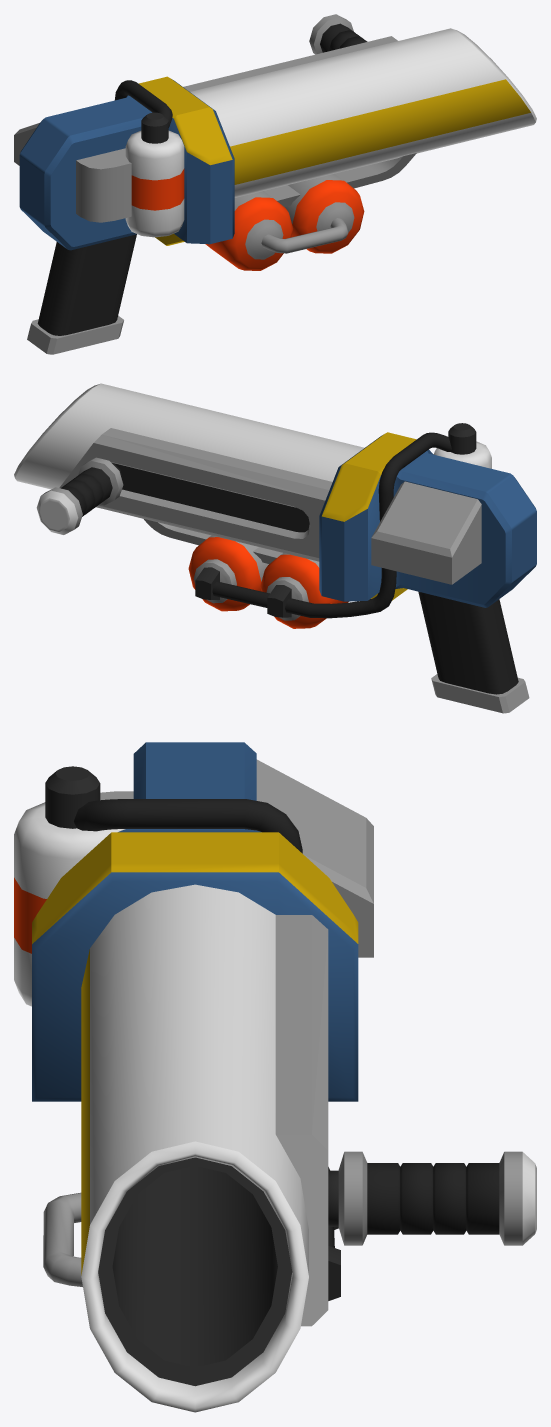
Rendered from OrbLauncher.FBX.
The picture shows the model from 3 angles, top to bottom: view 1: azimuth 30°, elevation 25°; view 2: azimuth 150°, elevation 25°; view 3: azimuth 270°, elevation 25°; orthographic projection. The views are drawn at different scales.
Visible parts, largest first — view 1: OrbLauncher, Handle; view 2: OrbLauncher, Handle; view 3: OrbLauncher, Handle.
Part boxes in pixels (<box>): OrbLauncher: <box>14,28,536,354</box>; Handle: <box>309,14,367,54</box>; OrbLauncher: <box>14,383,536,713</box>; Handle: <box>36,457,123,534</box>; OrbLauncher: <box>14,742,373,1412</box>; Handle: <box>328,1151,536,1245</box>.
Bounding box in the file's own units: 283 × 128 × 130.
